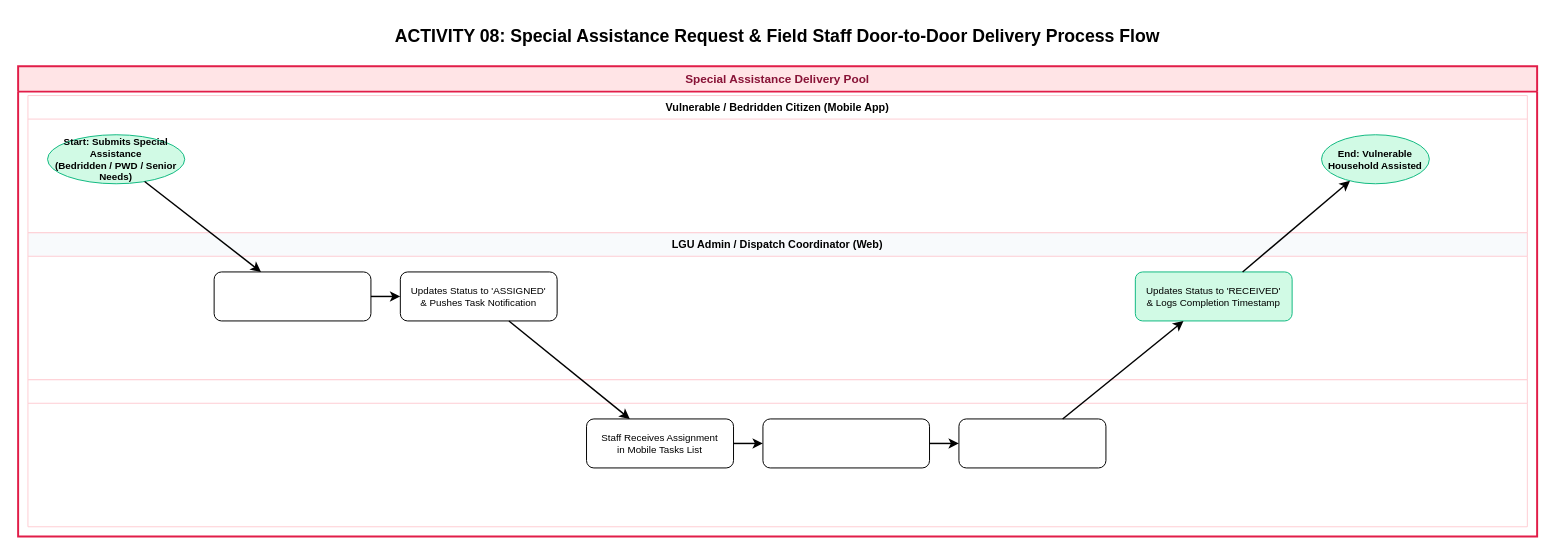
The diagram is 1554 pixels wide and 554 high, and some of its shapes have lost their labels. The shapes that lost their labels are listed below. From the top down, each one's box as (x1, y1, x2, y2) in pixels, then its label:
(213, 271, 371, 321): Reviews Request in Web Admin & Assigns Available Field Staff
(27, 379, 1527, 527): Field Staff on Ground (Mobile Tasks Screen)
(762, 418, 930, 468): Navigates to Household Address & Hands Package Door-to-Door
(958, 418, 1106, 468): Staff Taps 'Mark as Delivered' in Mobile Application
